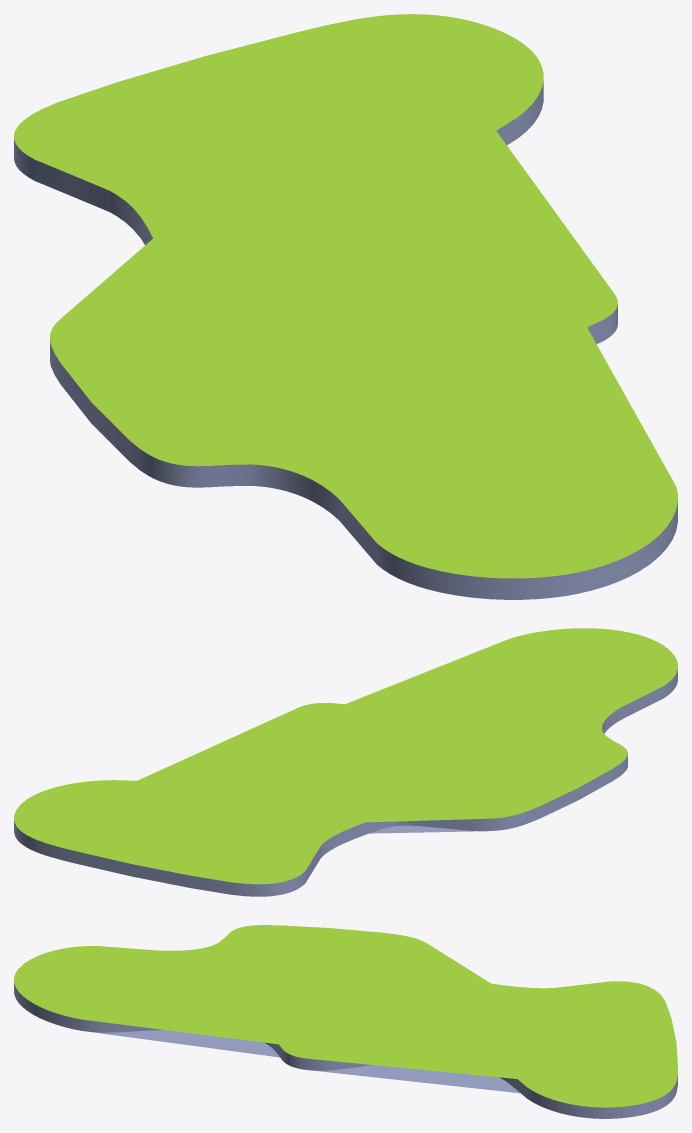
File: Lastholes5.fbx
3 views of the same model, one above another, from view 1: azimuth 30°, elevation 25°; view 2: azimuth 150°, elevation 25°; view 3: azimuth 270°, elevation 25° (orthographic). The views are drawn at different scales.
Parts seen in each view (by area): view 1: 5; view 2: 5; view 3: 5.
Part boxes in pixels (x1,y1,x2,y2): 5: (14, 14, 677, 599); 5: (14, 628, 677, 896); 5: (14, 925, 677, 1118).
Bounding box in the file's own units: 1031 × 30 × 1585.
